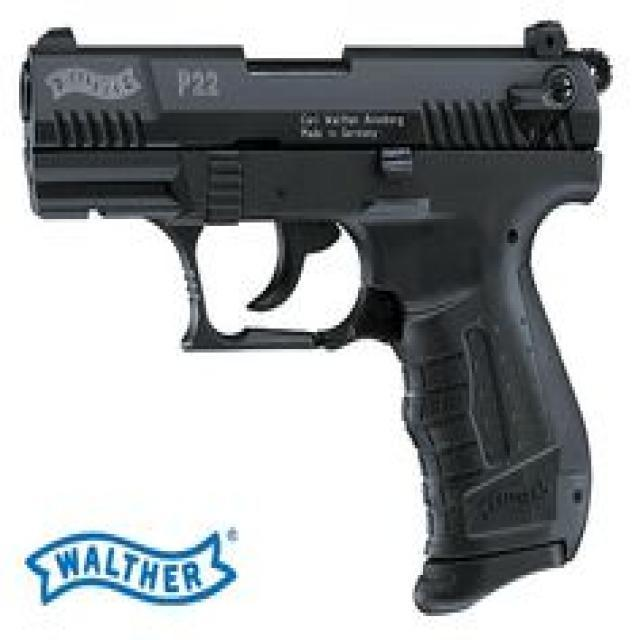semi automatic: (12, 5, 618, 608)
